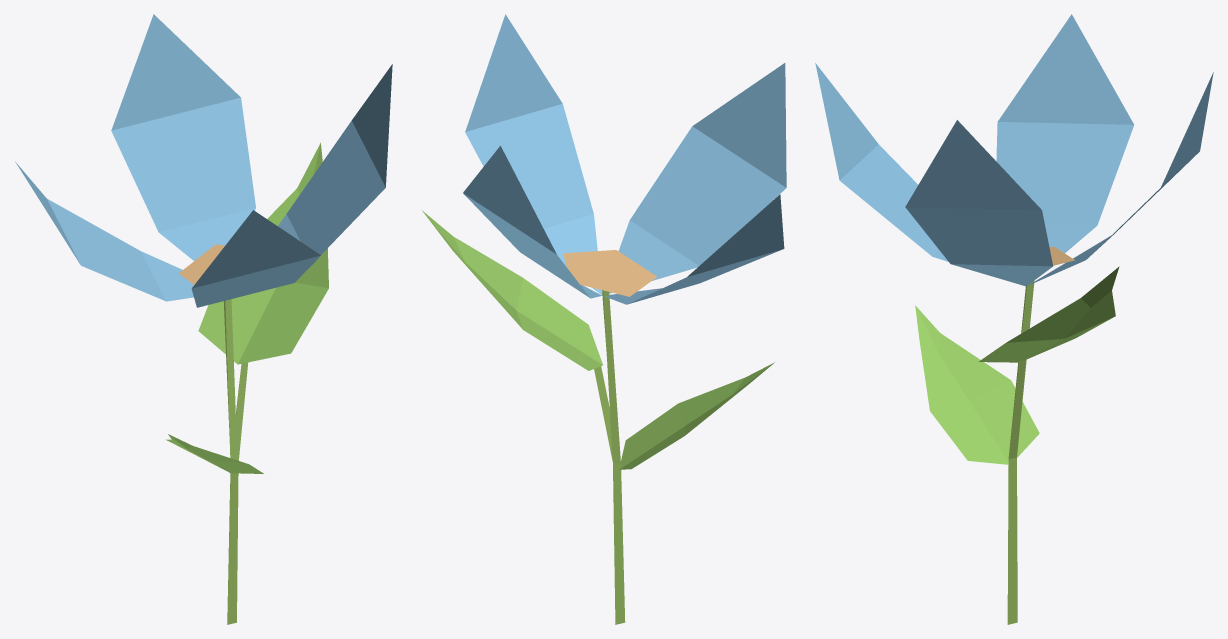
File: Flower_a_OneS_08.fbx
3 renders of one model, left to right at view 1: azimuth 30°, elevation 25°; view 2: azimuth 150°, elevation 25°; view 3: azimuth 270°, elevation 25°, orthographic. The views are drawn at different scales.
Visible parts, largest first — view 1: Flower_a_OneS_08; view 2: Flower_a_OneS_08; view 3: Flower_a_OneS_08.
Part boxes in pixels (left/top/right/bottom): Flower_a_OneS_08: left=15, top=14, right=392, bottom=624; Flower_a_OneS_08: left=422, top=14, right=786, bottom=624; Flower_a_OneS_08: left=815, top=14, right=1213, bottom=624.
Size of the model in its own units: 0.4158 by 0.657 by 0.4143.
